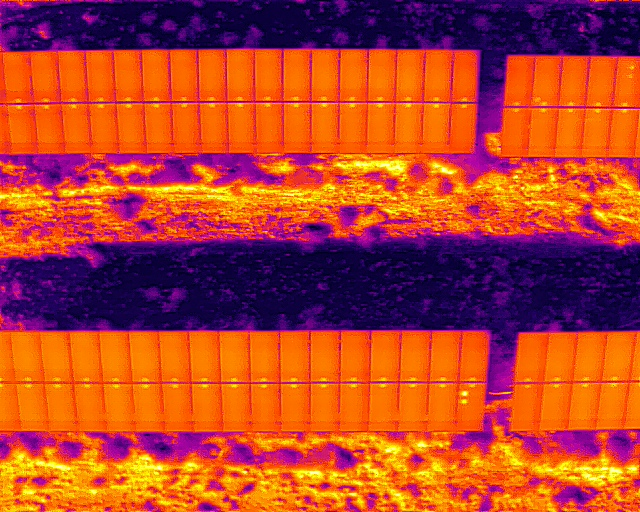multi_spot: (456, 382, 486, 432), (613, 57, 638, 107)
photovoltaic_panels: (2, 47, 482, 156), (2, 329, 490, 433), (499, 54, 639, 157), (510, 329, 638, 433)
single_spot: (530, 54, 562, 107)
